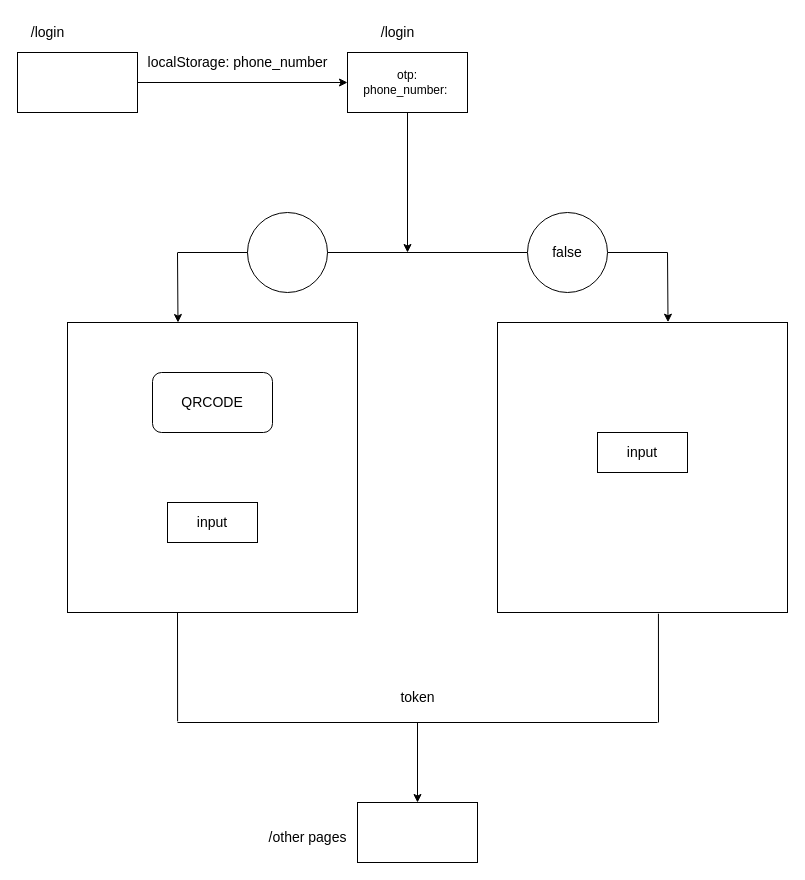
Some shapes in this 805 by 880 pixel diagram are drawn without their labels. The centre of each missing label's shape, as x and y in pixels:
"any data" belongs at point (417, 832).
"phone_number: password:" belongs at point (77, 82).
"true" belongs at point (287, 252).
